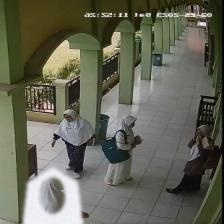Mukena: (21, 167, 84, 224)
